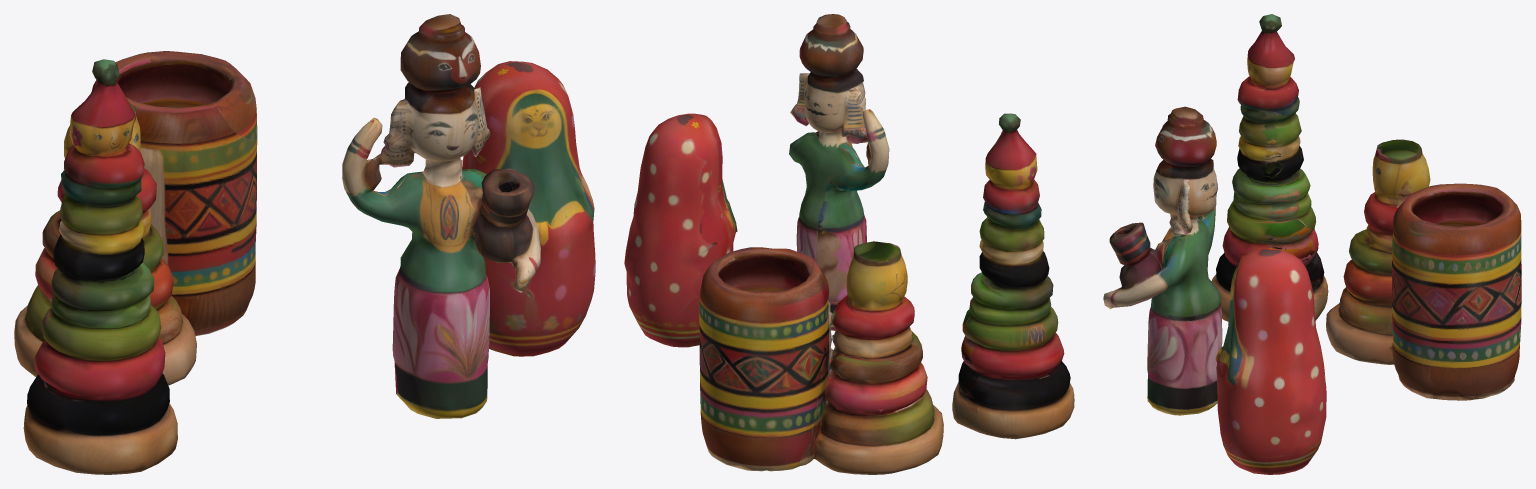
The model's file is channapatnaToys.glb.
3 views of the same model, side by side, from view 1: azimuth 30°, elevation 25°; view 2: azimuth 150°, elevation 25°; view 3: azimuth 270°, elevation 25° (orthographic). The views are drawn at different scales.
Bounding box in the file's own units: 1.99 × 1.38 × 1.71.
Materials: 1 (1 with a texture image).
